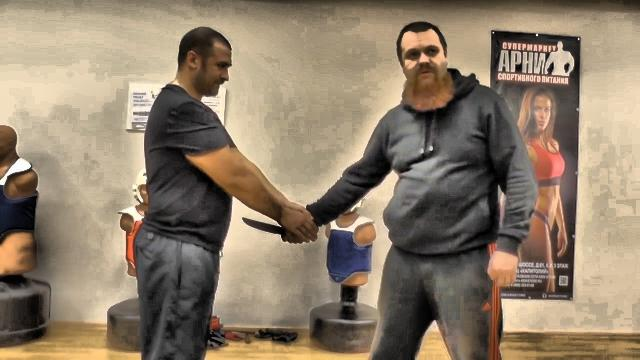knife: (240, 214, 320, 244)
